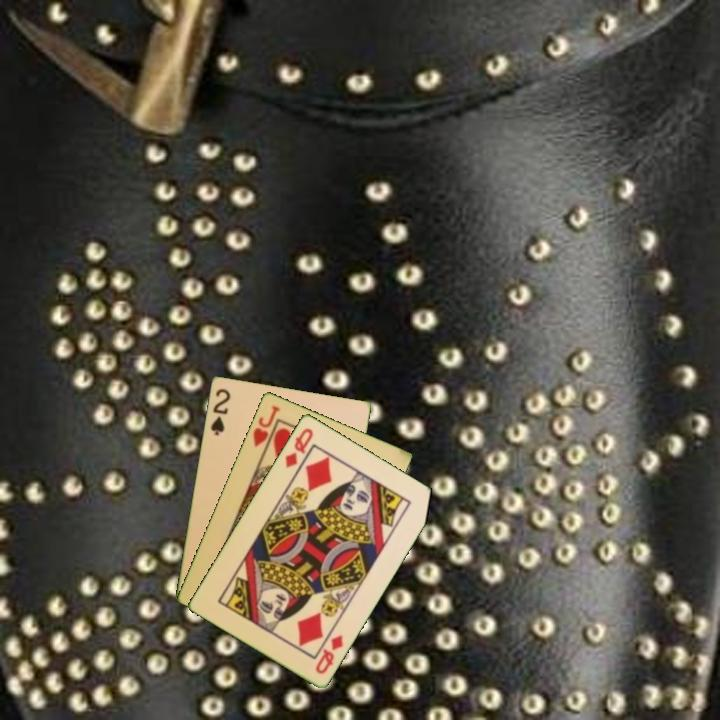2s: (207, 385, 233, 438)
Jh: (249, 401, 283, 449)
Qd: (281, 424, 316, 470), (312, 631, 346, 677)
